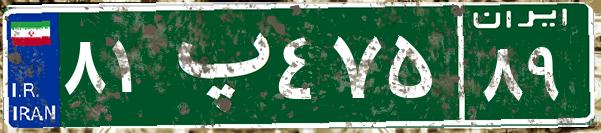1: (110, 28, 158, 105)
4: (273, 28, 330, 110)
5: (385, 28, 445, 110)
7: (330, 28, 385, 110)
8: (57, 26, 110, 107), (475, 38, 525, 113)
9: (525, 38, 570, 115)
پ: (158, 15, 273, 115)
